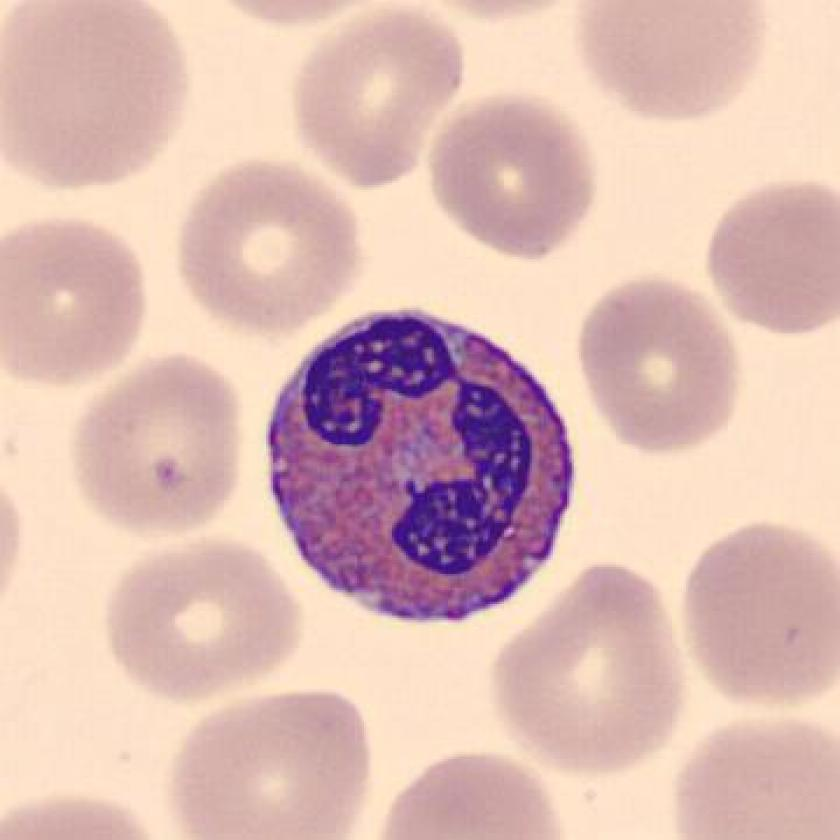eosinophil: (246, 293, 589, 635)
